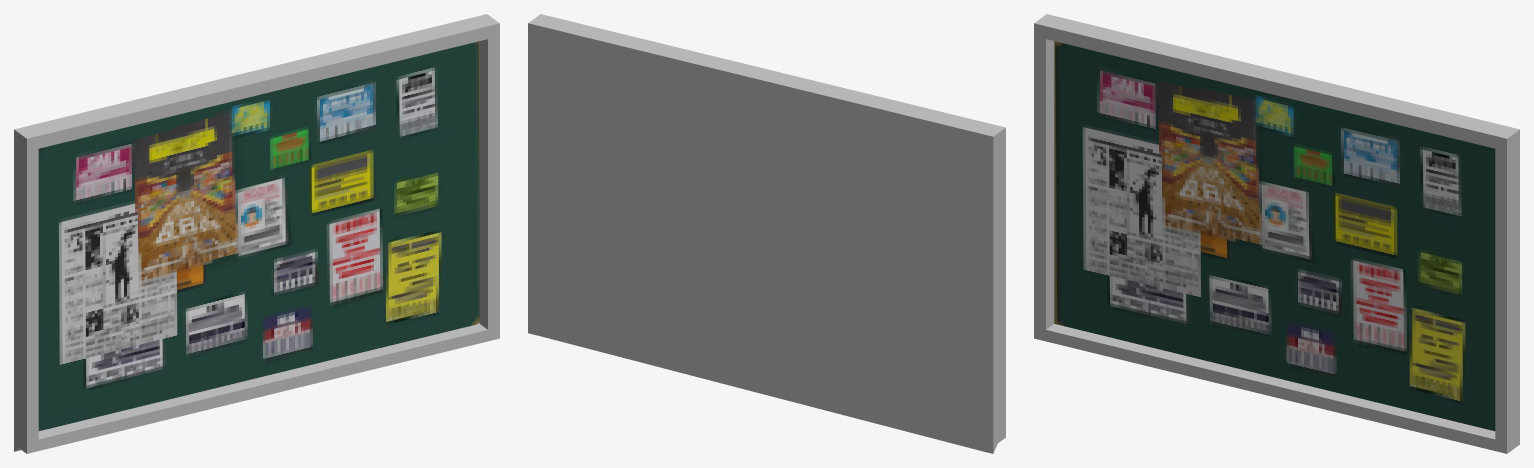
Rendered from information board.fbx.
3 views of the same model, side by side, from view 1: azimuth 30°, elevation 25°; view 2: azimuth 150°, elevation 25°; view 3: azimuth 330°, elevation 25° (orthographic).
Visible parts, largest first — view 1: Object.003; view 2: Object.003; view 3: Object.003.
Part boxes in pixels (left/top/right/bottom): Object.003: left=14, top=14, right=499, bottom=453; Object.003: left=528, top=14, right=1005, bottom=453; Object.003: left=1034, top=14, right=1519, bottom=453.
Size of the model in its own units: 168 by 110 by 7.92.
